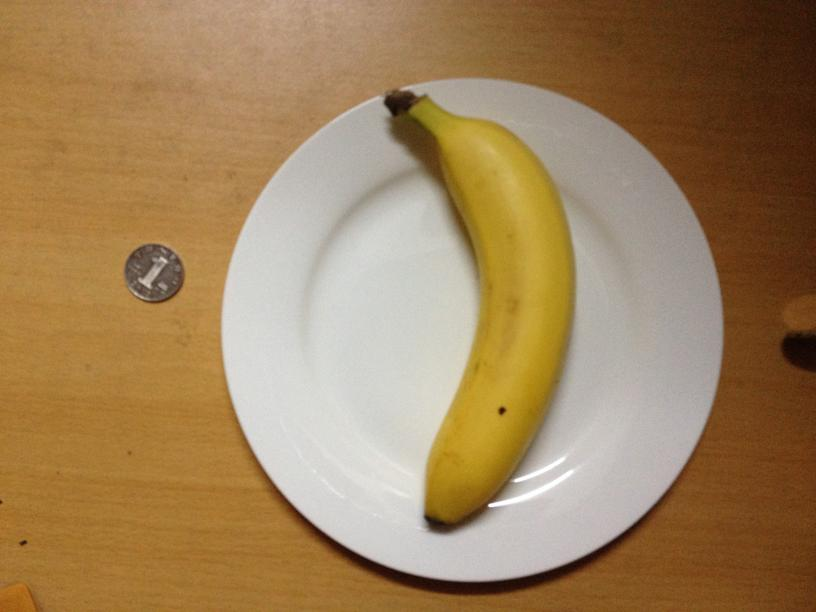banana: (379, 96, 577, 528)
coin: (121, 244, 185, 303)
